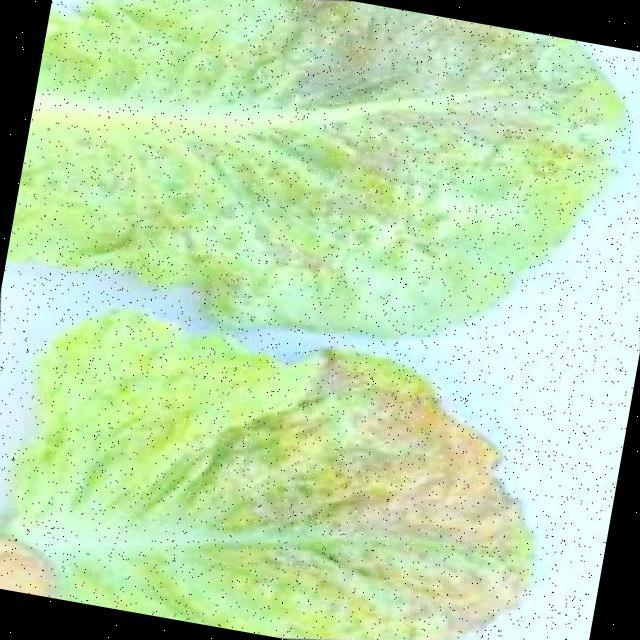Lettuce Mosaic Virus: (12, 0, 603, 335), (45, 337, 468, 640)
